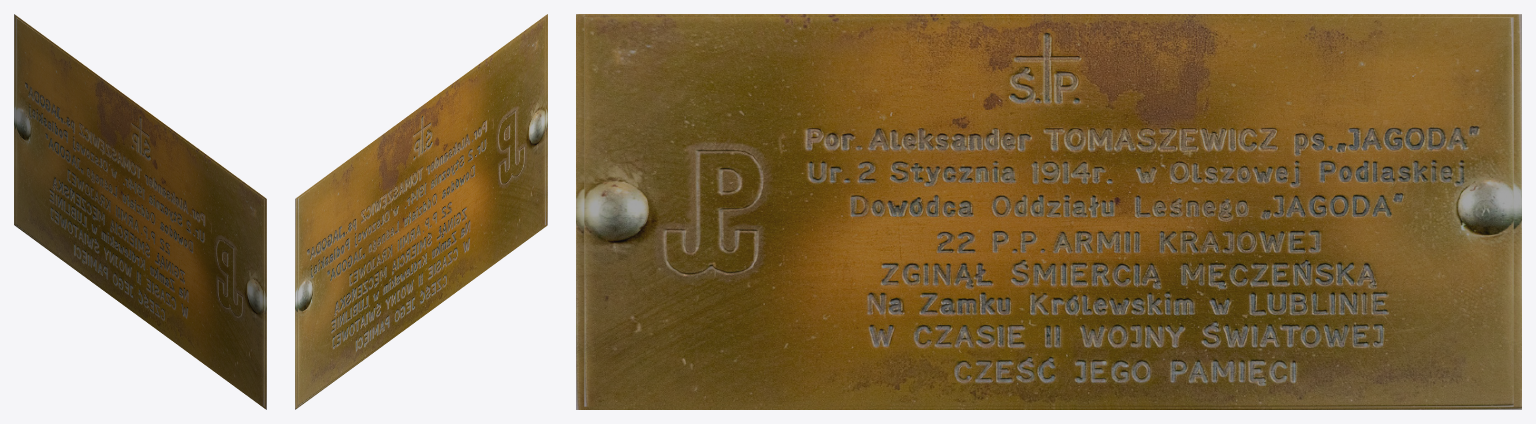
The model's file is 21. Ś.P. por. ALEKSANDER TOMASZEWICZ ps. ”JAGODA”.glb.
3 renders of one model, left to right at view 1: azimuth 30°, elevation 25°; view 2: azimuth 150°, elevation 25°; view 3: azimuth 270°, elevation 25°, orthographic. The views are drawn at different scales.
Visible parts, largest first — view 1: Plane; view 2: Plane; view 3: Plane.
Boxes of the visible parts, box(x1,y1,x2,y2) form: Plane: box(14, 14, 266, 409); Plane: box(295, 14, 547, 409); Plane: box(576, 14, 1521, 409).
Size of the model in its own units: 0.0246 by 6 by 13.
Materials: 1 (1 with a texture image).
